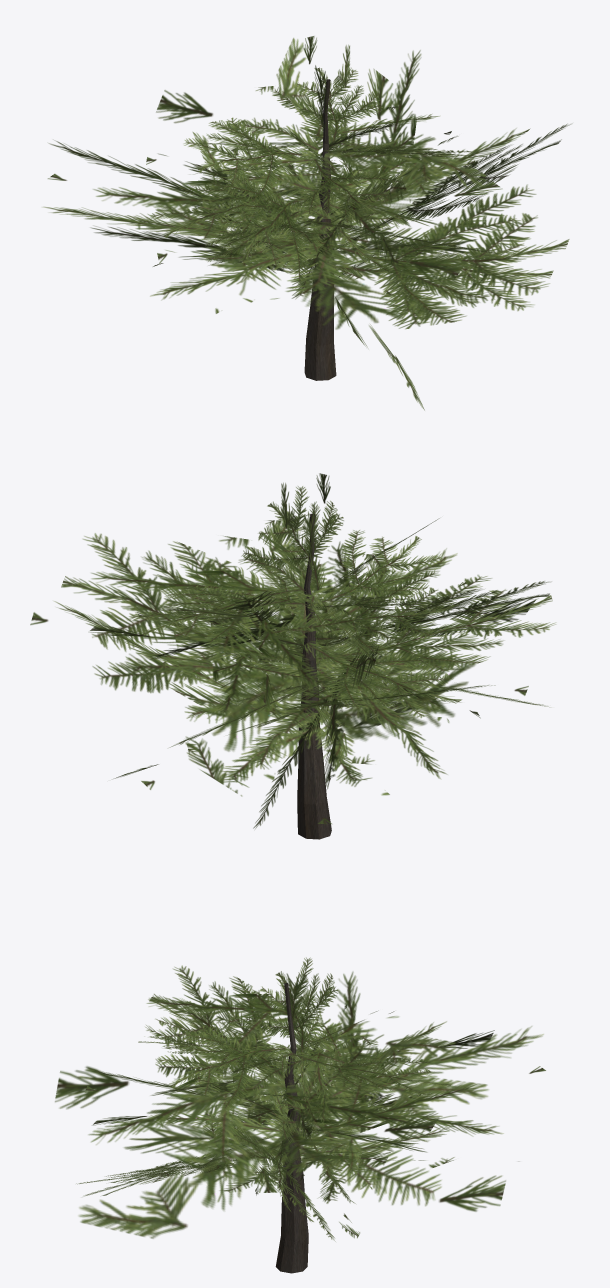
Rendered from prop_sapling_pinesml_a.glb.
3 renders of one model, top to bottom at view 1: azimuth 30°, elevation 25°; view 2: azimuth 150°, elevation 25°; view 3: azimuth 270°, elevation 25°, orthographic. The views are drawn at different scales.
Parts seen in each view (by area): view 1: conifer_pine_143; view 2: conifer_pine_143; view 3: conifer_pine_143.
Part boxes in pixels (x1,y1,x2,y2): conifer_pine_143: [42, 36, 571, 410]; conifer_pine_143: [30, 473, 556, 839]; conifer_pine_143: [55, 957, 545, 1273].
Size of the model in its own units: 5.03 by 3.45 by 5.54.
2 materials, 2 textured.
